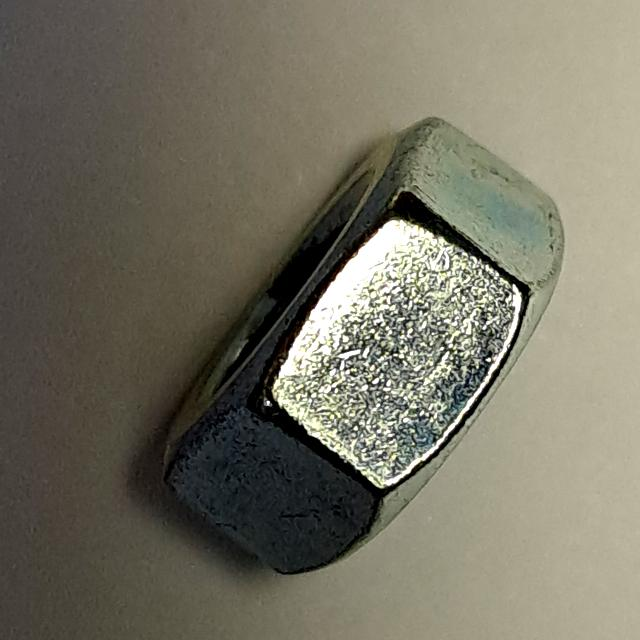Side_Excellent: (139, 79, 585, 590)
